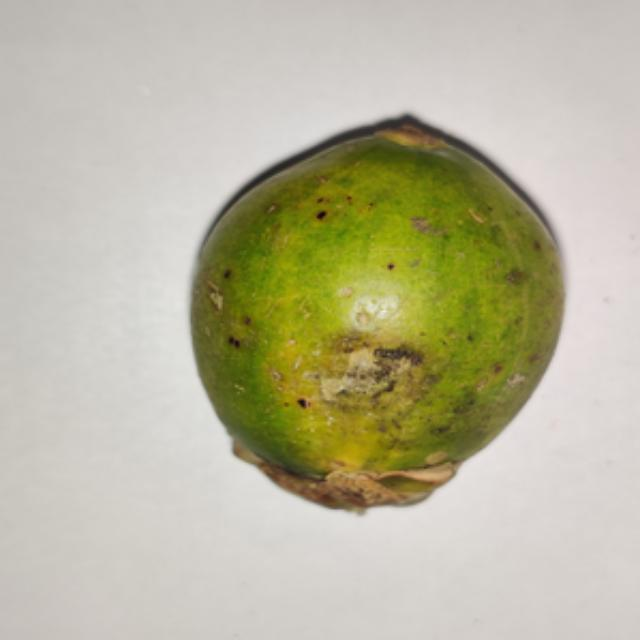damaged: (193, 116, 561, 509)
